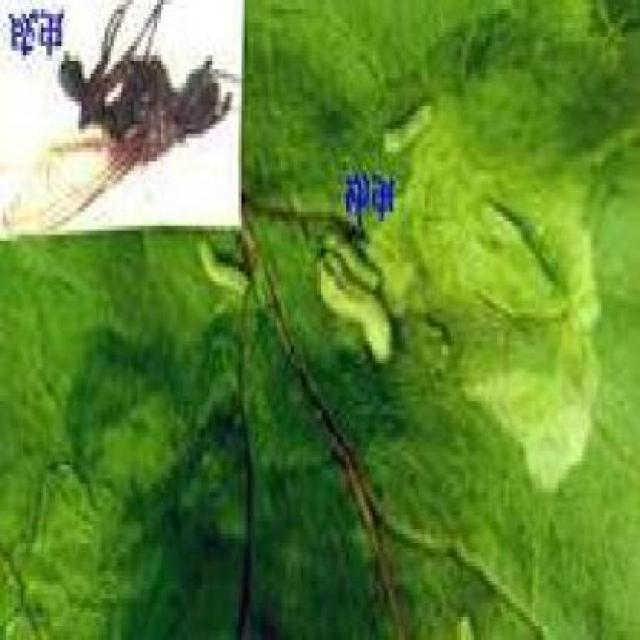whorl-maggot: (314, 216, 394, 379), (190, 236, 258, 309), (384, 93, 441, 175)
